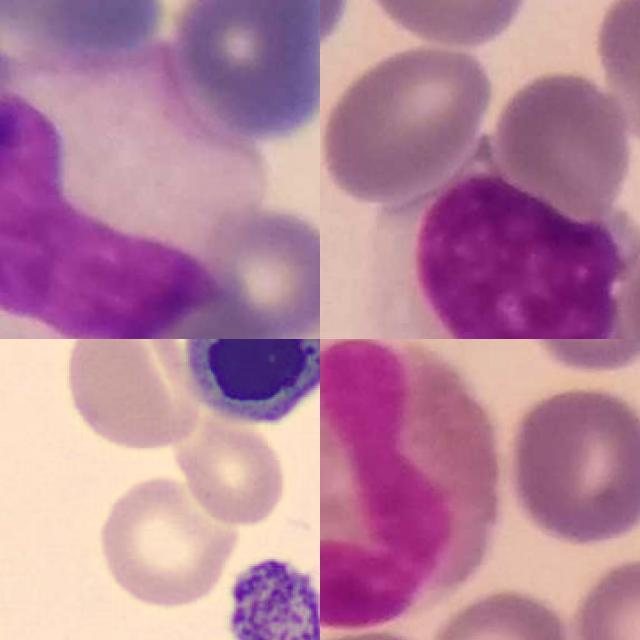Eosinophil: (320, 339, 499, 628)
Lymphocyte: (370, 136, 640, 339), (170, 339, 320, 430)
Monocyte: (0, 50, 259, 339)
Platelets: (226, 556, 320, 640)
RBC: (91, 474, 244, 610), (58, 339, 198, 454), (174, 420, 289, 529)
